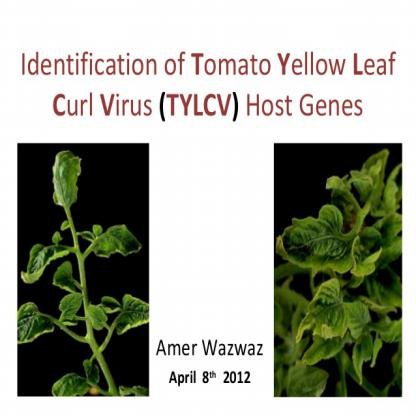Tomato leaf yellow virus: (291, 280, 366, 347), (280, 205, 355, 271), (50, 142, 82, 215), (87, 217, 145, 257), (20, 238, 69, 284)
